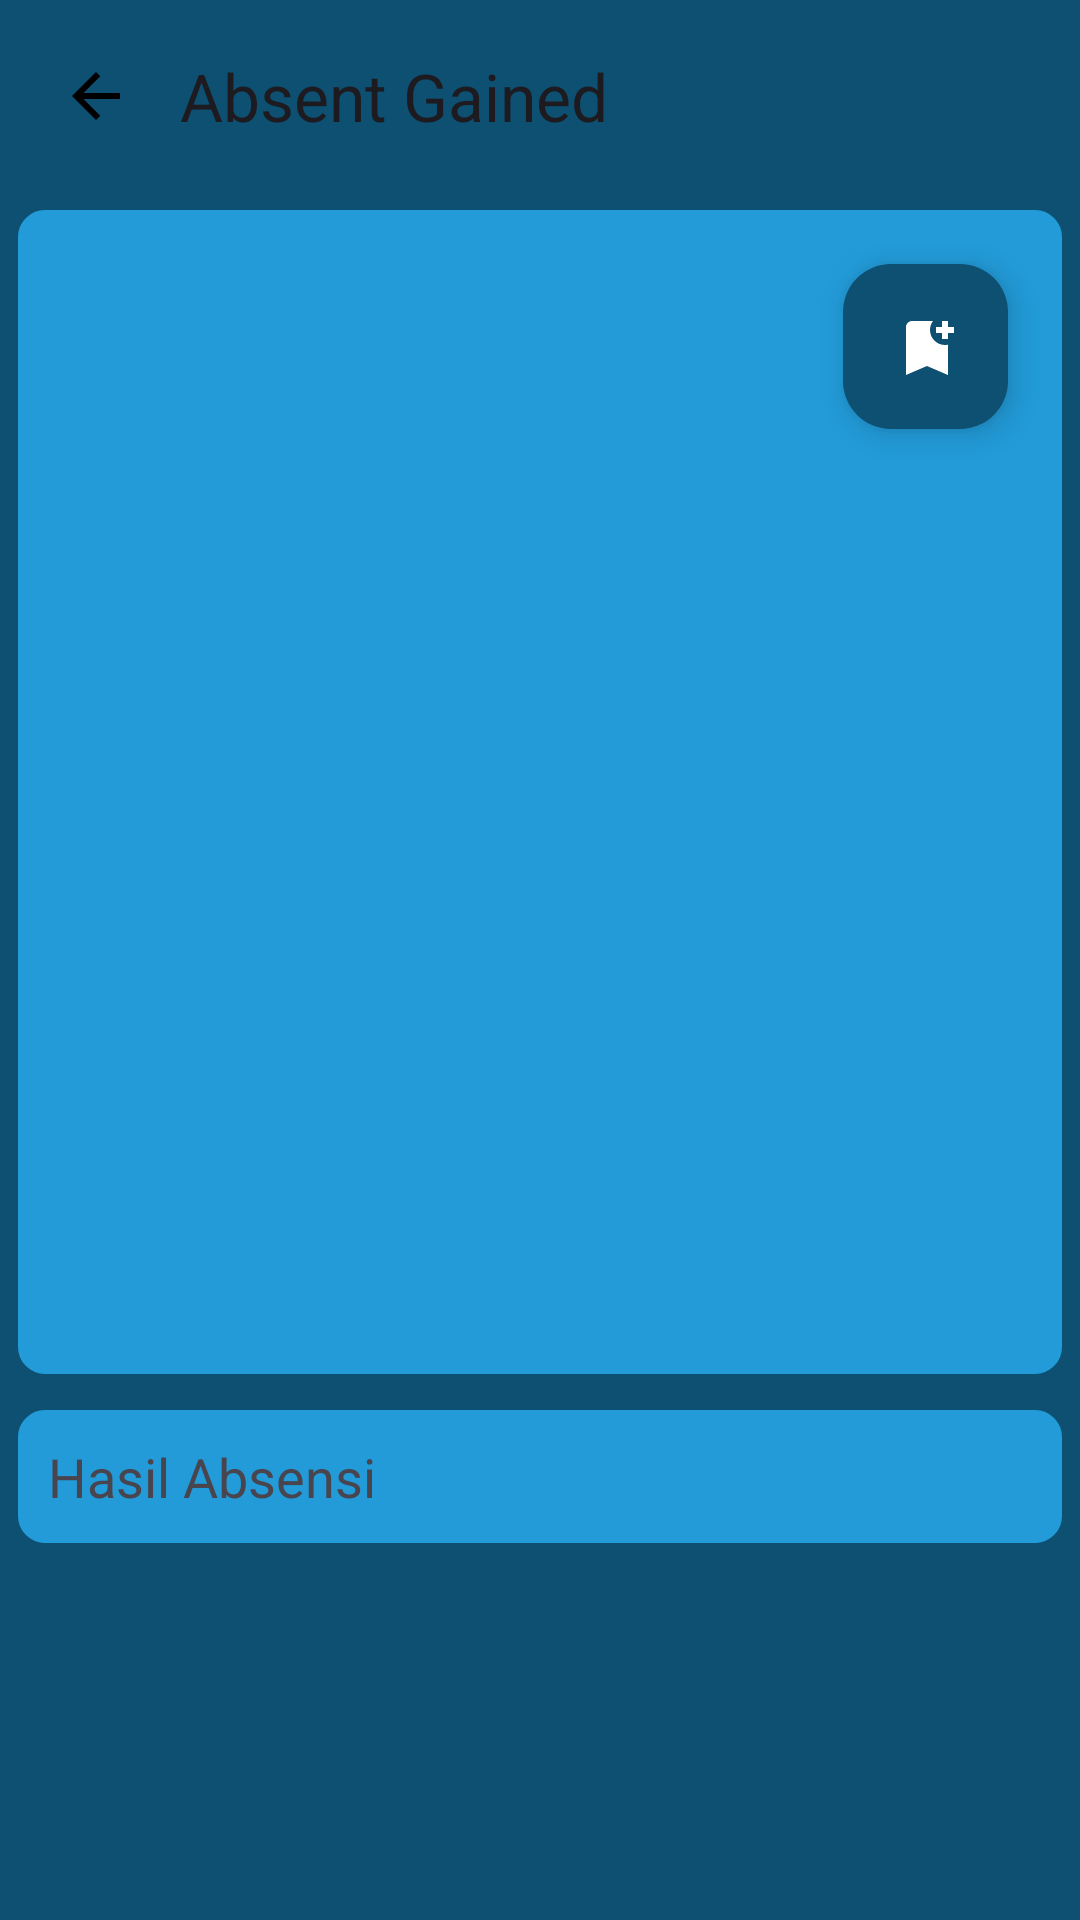

Where icons sit on this 1080*1920 app screen, as box=[x1, y1, x2, y2]:
back button: box=[72, 72, 120, 120]
Save Absensi: box=[843, 264, 1008, 429]
